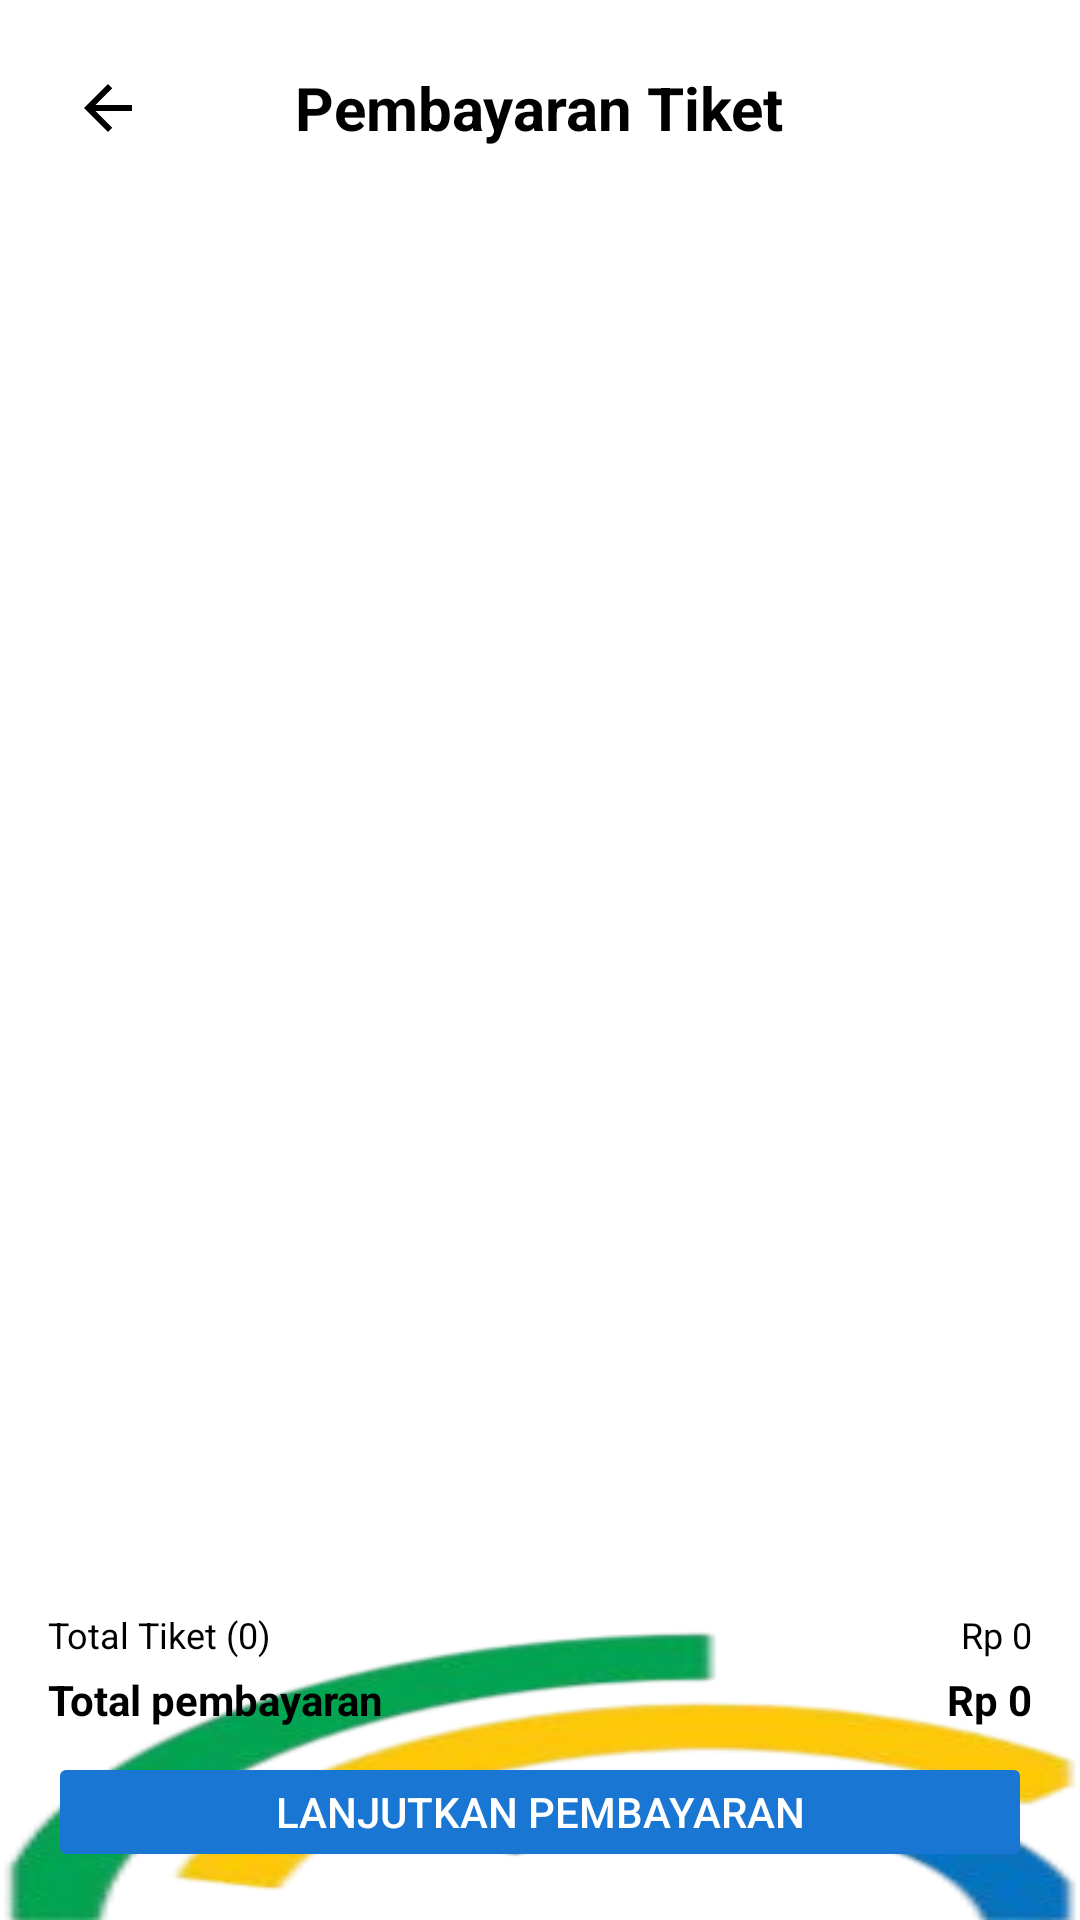

Named icons in this screenshot (1080 x 1920) and their centers, point (x, y):
Tombol Kembali: point (108, 108)
